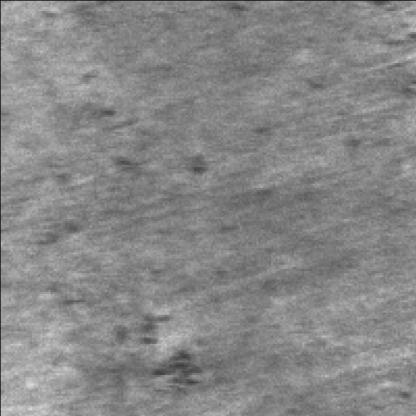rolled-in_scale: (10, 101, 202, 242), (18, 269, 200, 397)
